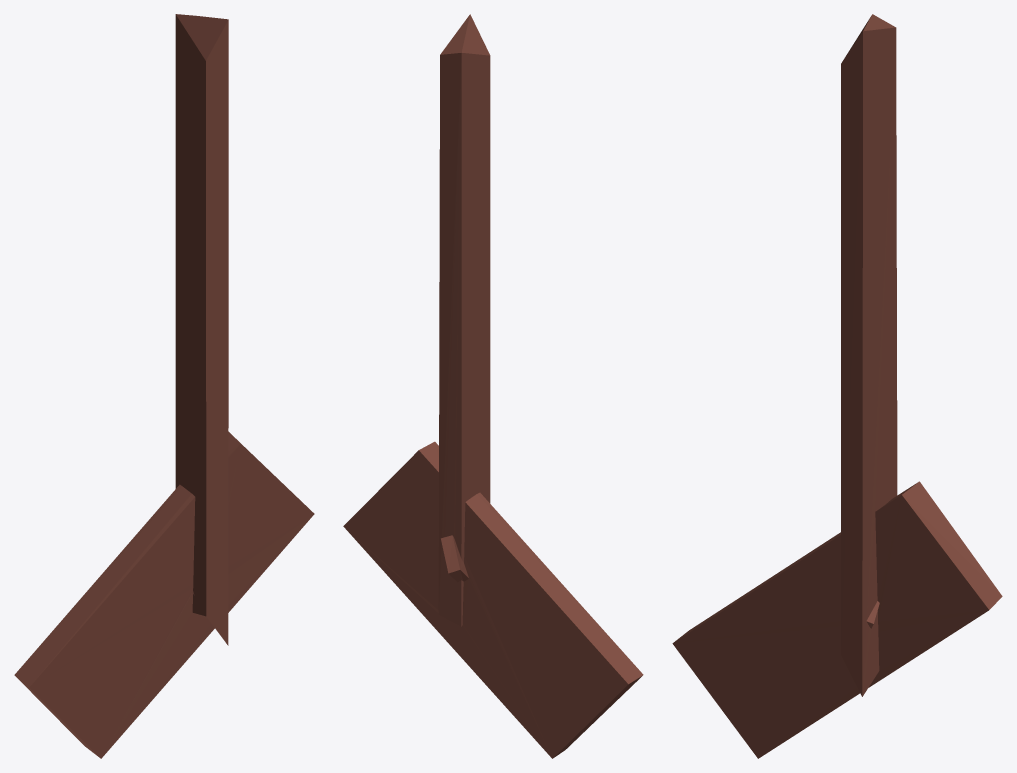
3 views of the same model, side by side, from view 1: azimuth 30°, elevation 25°; view 2: azimuth 150°, elevation 25°; view 3: azimuth 330°, elevation 25° (orthographic). The views are drawn at different scales.
Parts seen in each view (by area): view 1: 666_Cube.2679; view 2: 666_Cube.2679; view 3: 666_Cube.2679.
Part boxes in pixels (left/top/right/bottom): 666_Cube.2679: left=14, top=14, right=314, bottom=758; 666_Cube.2679: left=343, top=14, right=643, bottom=758; 666_Cube.2679: left=672, top=14, right=1002, bottom=758.
Bounding box in the file's own units: 6.22 × 14.72 × 1.69.
